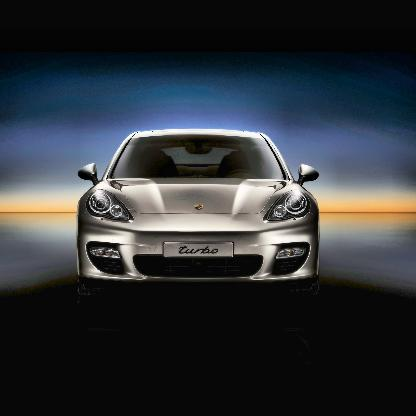Porsche Panamera Sedan 2012: (77, 128, 321, 284)
